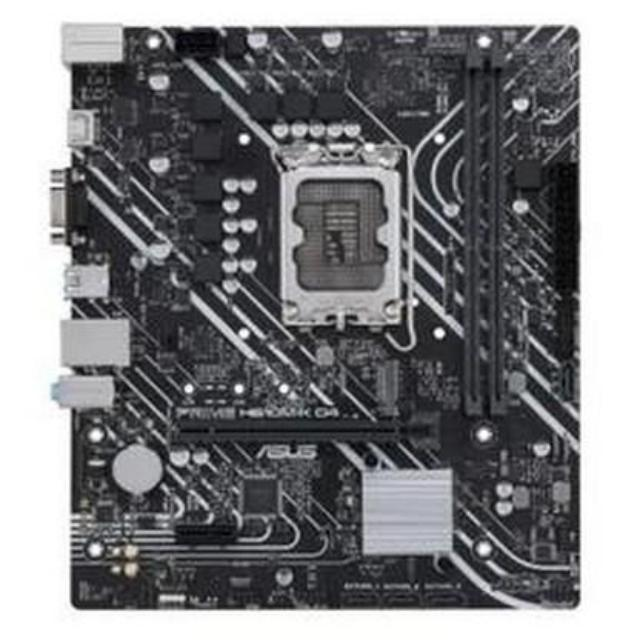Mainboard: (33, 7, 602, 633)
